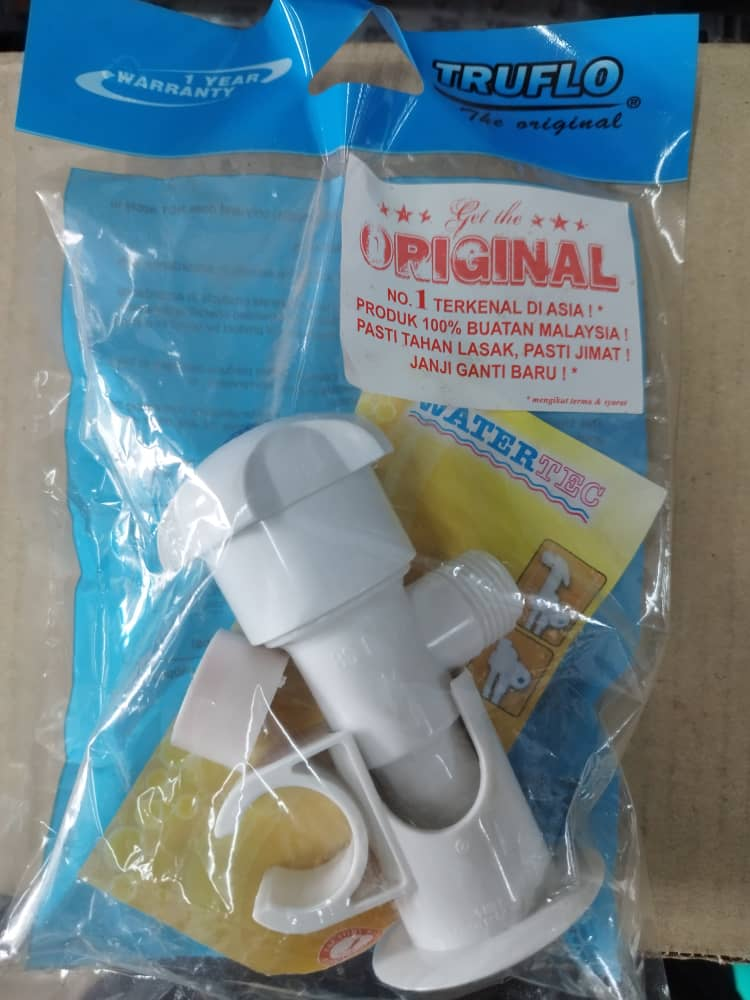sku_white_bidet_holder: (78, 387, 664, 986)
